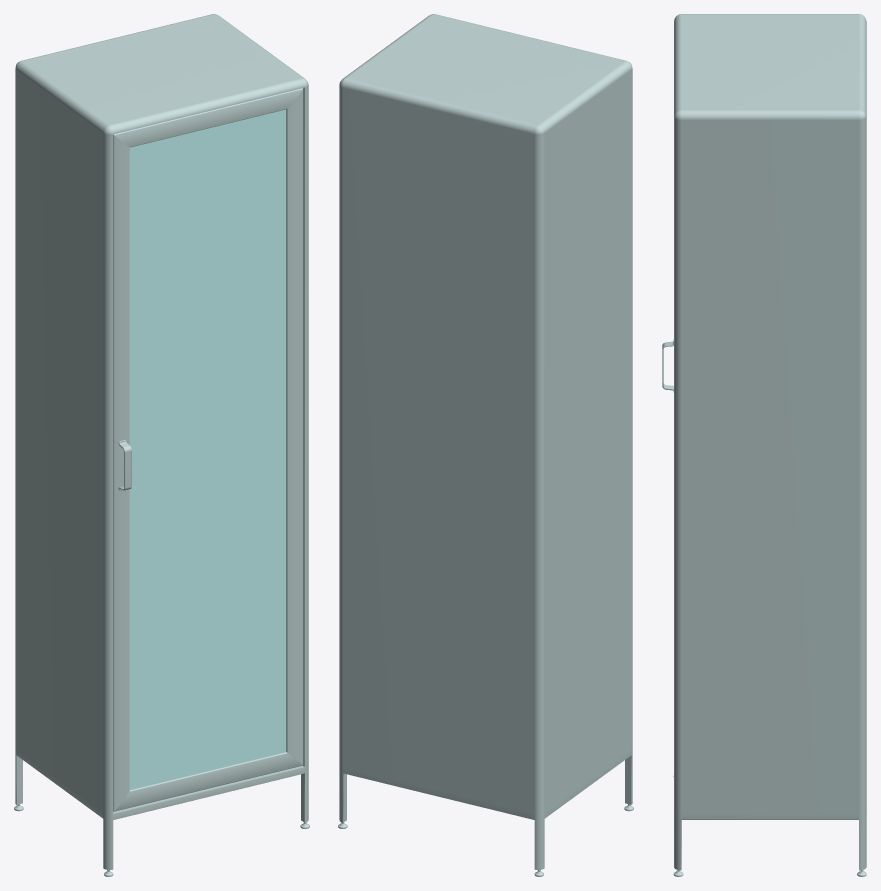
File: medical_cabinet.fbx
3 views of the same model, side by side, from view 1: azimuth 30°, elevation 25°; view 2: azimuth 150°, elevation 25°; view 3: azimuth 270°, elevation 25° (orthographic). The views are drawn at different scales.
Visible parts, largest first — view 1: medical_cabinet_door, medical_cabinet; view 2: medical_cabinet; view 3: medical_cabinet.
Boxes of the visible parts, box(x1,y1,x2,y2) form: medical_cabinet_door: box(113, 88, 303, 811); medical_cabinet: box(14, 14, 309, 876); medical_cabinet: box(338, 14, 633, 876); medical_cabinet: box(673, 14, 866, 876).
Size of the model in its own units: 50.09 by 175 by 42.49.
